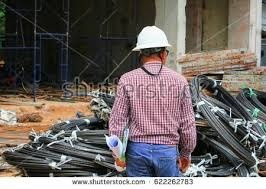helmet: (133, 25, 172, 51)
person with partial safety: (114, 24, 191, 172)
